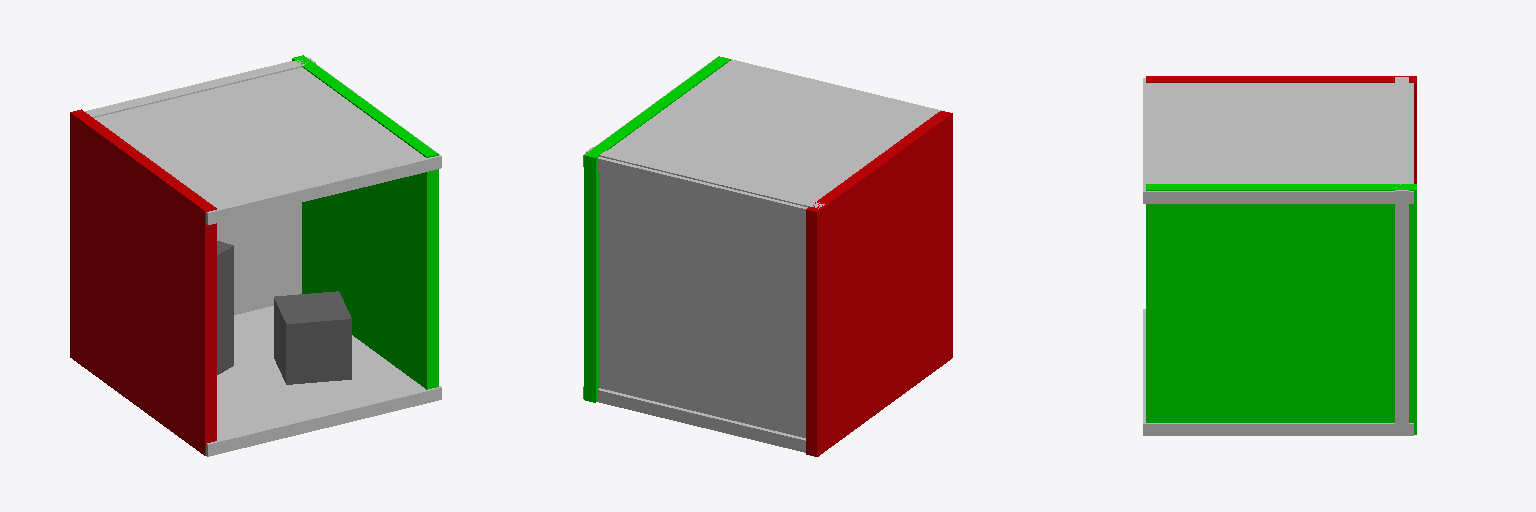
File: cornell.obj
3 renders of one model, left to right at view 1: azimuth 30°, elevation 25°; view 2: azimuth 150°, elevation 25°; view 3: azimuth 270°, elevation 25°, orthographic.
Parts seen in each view (by area): view 1: Cube, Cube.004, Cube.001, Cube.003, Cube.002, Cube.006, Cube.007; view 2: Cube.002, Cube, Cube.004, Cube.001, Cube.003; view 3: Cube.001, Cube.004, Cube.002, Cube.003, Cube.
Part boxes in pixels (x1,y1,x2,y2): Cube: (70, 109, 216, 455); Cube.004: (84, 61, 441, 224); Cube.001: (292, 55, 438, 389); Cube.003: (206, 306, 441, 456); Cube.002: (86, 58, 315, 314); Cube.006: (274, 291, 351, 384); Cube.007: (217, 241, 233, 374); Cube.002: (586, 147, 824, 437); Cube: (806, 111, 952, 456); Cube.004: (583, 56, 945, 220); Cube.001: (584, 56, 730, 402); Cube.003: (583, 386, 805, 452); Cube.001: (1146, 184, 1416, 434); Cube.004: (1143, 78, 1413, 203); Cube.002: (1395, 77, 1408, 435); Cube.003: (1143, 309, 1413, 435); Cube: (1146, 76, 1416, 183).
Size of the model in its own units: 4.02 by 4 by 4.04.